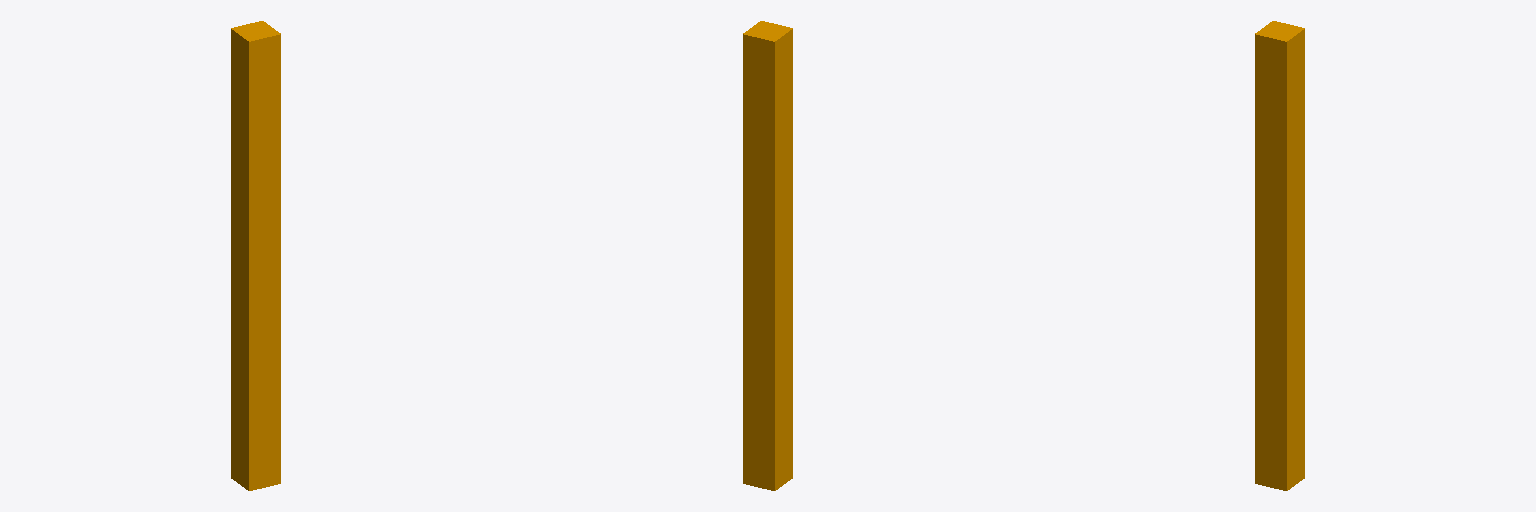
URDF robot description (universal_robot):
<?xml version="1.0" ?>
<robot name="universal_robot">

  <!-- UR stand -->
  <link name="ur_stand">
    <collision>
      <origin rpy="0 0 0" xyz="0 0 1"/>
      <geometry>
        <box size="0.15 0.15 2"/>
      </geometry>
    </collision>
    <visual>
      <origin rpy="0 0 0" xyz="0 0 1"/>
      <geometry>
        <box size="0.15 0.15 2"/>
      </geometry>
      <material name="orange"/>
    </visual>
    <inertial>
      <origin rpy="0 0 0" xyz="0 0 1"/>
      <mass value="1"/>
      <inertia ixx="0.3341666666666666" ixy="0.0" ixz="0.0" iyy="0.3341666666666666" iyz="0.0" izz="0.001666666666666667"/>
    </inertial>
  </link>

  <joint name="fixed" type="fixed">
    <parent link="ur_stand"/>
    <child link="base_link"/>
    <origin rpy="0.0 0.0 0.0" xyz="0.0 0.0 2"/>
  </joint>

  <link name="base_link">
    <visual>
      <geometry>
        <mesh filename="../meshes/ur5/visual/base.obj"/>
      </geometry>
      <material name="LightGrey">
        <color rgba="0.7 0.7 0.7 1.0"/>
      </material>
    </visual>
    <collision>
      <geometry>
        <mesh filename="../meshes/ur5/collision/base.stl"/>
      </geometry>
    </collision>
    <inertial>
      <mass value="4.0"/>
      <origin rpy="0 0 0" xyz="0.0 0.0 0.0"/>
      <inertia ixx="0.00443333156" ixy="0.0" ixz="0.0" iyy="0.00443333156" iyz="0.0" izz="0.0072"/>
    </inertial>
  </link>

  <joint name="shoulder_pan_joint" type="revolute">
    <parent link="base_link"/>
    <child link="shoulder_link"/>
    <origin rpy="0.0 0.0 0.0" xyz="0.0 0.0 0.089159"/>
    <axis xyz="0 0 1"/>
    <limit effort="150.0" lower="-6.28318530718" upper="6.28318530718" velocity="3.15"/>
    <dynamics damping="0.0" friction="0.0"/>
  </joint>
  <link name="shoulder_link">
    <visual>
      <geometry>
        <mesh filename="../meshes/ur5/visual/shoulder.obj"/>
      </geometry>
      <material name="LightGrey">
        <color rgba="0.7 0.7 0.7 1.0"/>
      </material>
    </visual>
    <collision>
      <geometry>
        <mesh filename="../meshes/ur5/collision/shoulder.stl"/>
      </geometry>
    </collision>
    <inertial>
      <mass value="3.7"/>
      <origin rpy="0 0 0" xyz="0.0 0.0 0.0"/>
      <inertia ixx="0.010267495893" ixy="0.0" ixz="0.0" iyy="0.010267495893" iyz="0.0" izz="0.00666"/>
    </inertial>
  </link>
  <joint name="shoulder_lift_joint" type="revolute">
    <parent link="shoulder_link"/>
    <child link="upper_arm_link"/>
    <origin rpy="0.0 1.57079632679 0.0" xyz="0.0 0.13585 0.0"/>
    <axis xyz="0 1 0"/>
    <limit effort="150.0" lower="-6.28318530718" upper="6.28318530718" velocity="3.15"/>
    <dynamics damping="0.0" friction="0.0"/>
  </joint>
  <link name="upper_arm_link">
    <visual>
      <geometry>
        <mesh filename="../meshes/ur5/visual/upperarm.obj"/>
      </geometry>
      <material name="LightGrey">
        <color rgba="0.7 0.7 0.7 1.0"/>
      </material>
    </visual>
    <collision>
      <geometry>
        <mesh filename="../meshes/ur5/collision/upperarm.stl"/>
      </geometry>
    </collision>
    <inertial>
      <mass value="8.393"/>
      <origin rpy="0 0 0" xyz="0.0 0.0 0.28"/>
      <inertia ixx="0.22689067591" ixy="0.0" ixz="0.0" iyy="0.22689067591" iyz="0.0" izz="0.0151074"/>
    </inertial>
  </link>
  <joint name="elbow_joint" type="revolute">
    <parent link="upper_arm_link"/>
    <child link="forearm_link"/>
    <origin rpy="0.0 0.0 0.0" xyz="0.0 -0.1197 0.425"/>
    <axis xyz="0 1 0"/>
    <limit effort="150.0" lower="-3.14159265359" upper="3.14159265359" velocity="3.15"/>
    <dynamics damping="0.0" friction="0.0"/>
  </joint>
  <link name="forearm_link">
    <visual>
      <geometry>
        <mesh filename="../meshes/ur5/visual/forearm.obj"/>
      </geometry>
      <material name="LightGrey">
        <color rgba="0.7 0.7 0.7 1.0"/>
      </material>
    </visual>
    <collision>
      <geometry>
        <mesh filename="../meshes/ur5/collision/forearm.stl"/>
      </geometry>
    </collision>
    <inertial>
      <mass value="2.275"/>
      <origin rpy="0 0 0" xyz="0.0 0.0 0.25"/>
      <inertia ixx="0.049443313556" ixy="0.0" ixz="0.0" iyy="0.049443313556" iyz="0.0" izz="0.004095"/>
    </inertial>
  </link>
  <joint name="wrist_1_joint" type="revolute">
    <parent link="forearm_link"/>
    <child link="wrist_1_link"/>
    <origin rpy="0.0 1.57079632679 0.0" xyz="0.0 0.0 0.39225"/>
    <axis xyz="0 1 0"/>
    <limit effort="28.0" lower="-6.28318530718" upper="6.28318530718" velocity="3.2"/>
    <dynamics damping="0.0" friction="0.0"/>
  </joint>
  <link name="wrist_1_link">
    <visual>
      <geometry>
        <mesh filename="../meshes/ur5/visual/wrist1.obj"/>
      </geometry>
      <material name="LightGrey">
        <color rgba="0.7 0.7 0.7 1.0"/>
      </material>
    </visual>
    <collision>
      <geometry>
        <mesh filename="../meshes/ur5/collision/wrist1.stl"/>
      </geometry>
    </collision>
    <inertial>
      <mass value="1.219"/>
      <origin rpy="0 0 0" xyz="0.0 0.0 0.0"/>
      <inertia ixx="0.111172755531" ixy="0.0" ixz="0.0" iyy="0.111172755531" iyz="0.0" izz="0.21942"/>
    </inertial>
  </link>
  <joint name="wrist_2_joint" type="revolute">
    <parent link="wrist_1_link"/>
    <child link="wrist_2_link"/>
    <origin rpy="0.0 0.0 0.0" xyz="0.0 0.093 0.0"/>
    <axis xyz="0 0 1"/>
    <limit effort="28.0" lower="-6.28318530718" upper="6.28318530718" velocity="3.2"/>
    <dynamics damping="0.0" friction="0.0"/>
  </joint>
  <link name="wrist_2_link">
    <visual>
      <geometry>
        <mesh filename="../meshes/ur5/visual/wrist2.obj"/>
      </geometry>
      <material name="LightGrey">
        <color rgba="0.7 0.7 0.7 1.0"/>
      </material>
    </visual>
    <collision>
      <geometry>
        <mesh filename="../meshes/ur5/collision/wrist2.stl"/>
      </geometry>
    </collision>
    <inertial>
      <mass value="1.219"/>
      <origin rpy="0 0 0" xyz="0.0 0.0 0.0"/>
      <inertia ixx="0.111172755531" ixy="0.0" ixz="0.0" iyy="0.111172755531" iyz="0.0" izz="0.21942"/>
    </inertial>
  </link>
  <joint name="wrist_3_joint" type="revolute">
    <parent link="wrist_2_link"/>
    <child link="wrist_3_link"/>
    <origin rpy="0.0 0.0 0.0" xyz="0.0 0.0 0.09465"/>
    <axis xyz="0 1 0"/>
    <limit effort="28.0" lower="-6.28318530718" upper="6.28318530718" velocity="3.2"/>
    <dynamics damping="0.0" friction="0.0"/>
  </joint>
  <link name="wrist_3_link">
    <visual>
      <geometry>
        <mesh filename="../meshes/ur5/visual/wrist3.obj"/>
      </geometry>
      <material name="LightGrey">
        <color rgba="0.7 0.7 0.7 1.0"/>
      </material>
    </visual>
    <collision>
      <geometry>
        <mesh filename="../meshes/ur5/collision/wrist3.stl"/>
      </geometry>
    </collision>
    <inertial>
      <mass value="0.1879"/>
      <origin rpy="0 0 0" xyz="0.0 0.0 0.0"/>
      <inertia ixx="0.0171364731454" ixy="0.0" ixz="0.0" iyy="0.0171364731454" iyz="0.0" izz="0.033822"/>
    </inertial>
  </link>
  <joint name="ee_fixed_joint" type="fixed">
    <parent link="wrist_3_link"/>
    <child link="ee_link"/>
    <origin rpy="0.0 0.0 1.57079632679" xyz="0.0 0.0823 0.0"/>
  </joint>
  <link name="ee_link">
    <collision>
      <geometry>
        <box size="0.3 1 1"/>
      </geometry>
      <origin rpy="0 0 0" xyz="-0.01 0 0"/>
    </collision>
  </link>

</robot>

--- Facts derived from the render (not from the file) ---
3 views of the same robot in one strip: view 1: azimuth 30°, elevation 25°; view 2: azimuth 150°, elevation 25°; view 3: azimuth 330°, elevation 25° (orthographic).
Model universal_robot with 9 links and 8 joints (6 revolute, 2 fixed), rooted at ur_stand, posed all joints at 0.
Links seen in each view (by area): view 1: ur_stand; view 2: ur_stand; view 3: ur_stand.
Link boxes in pixels (box(x1,y1,x2,y2)): ur_stand: box(231, 21, 280, 490); ur_stand: box(743, 21, 792, 490); ur_stand: box(1255, 21, 1304, 490).
Bounding box of the posed robot: 0.15 × 0.15 × 2 m (x, y, z).
0 mesh visuals loaded from 7 distinct referenced files (none loaded); not drawn: 7 (reference not matched to a file when rendering).